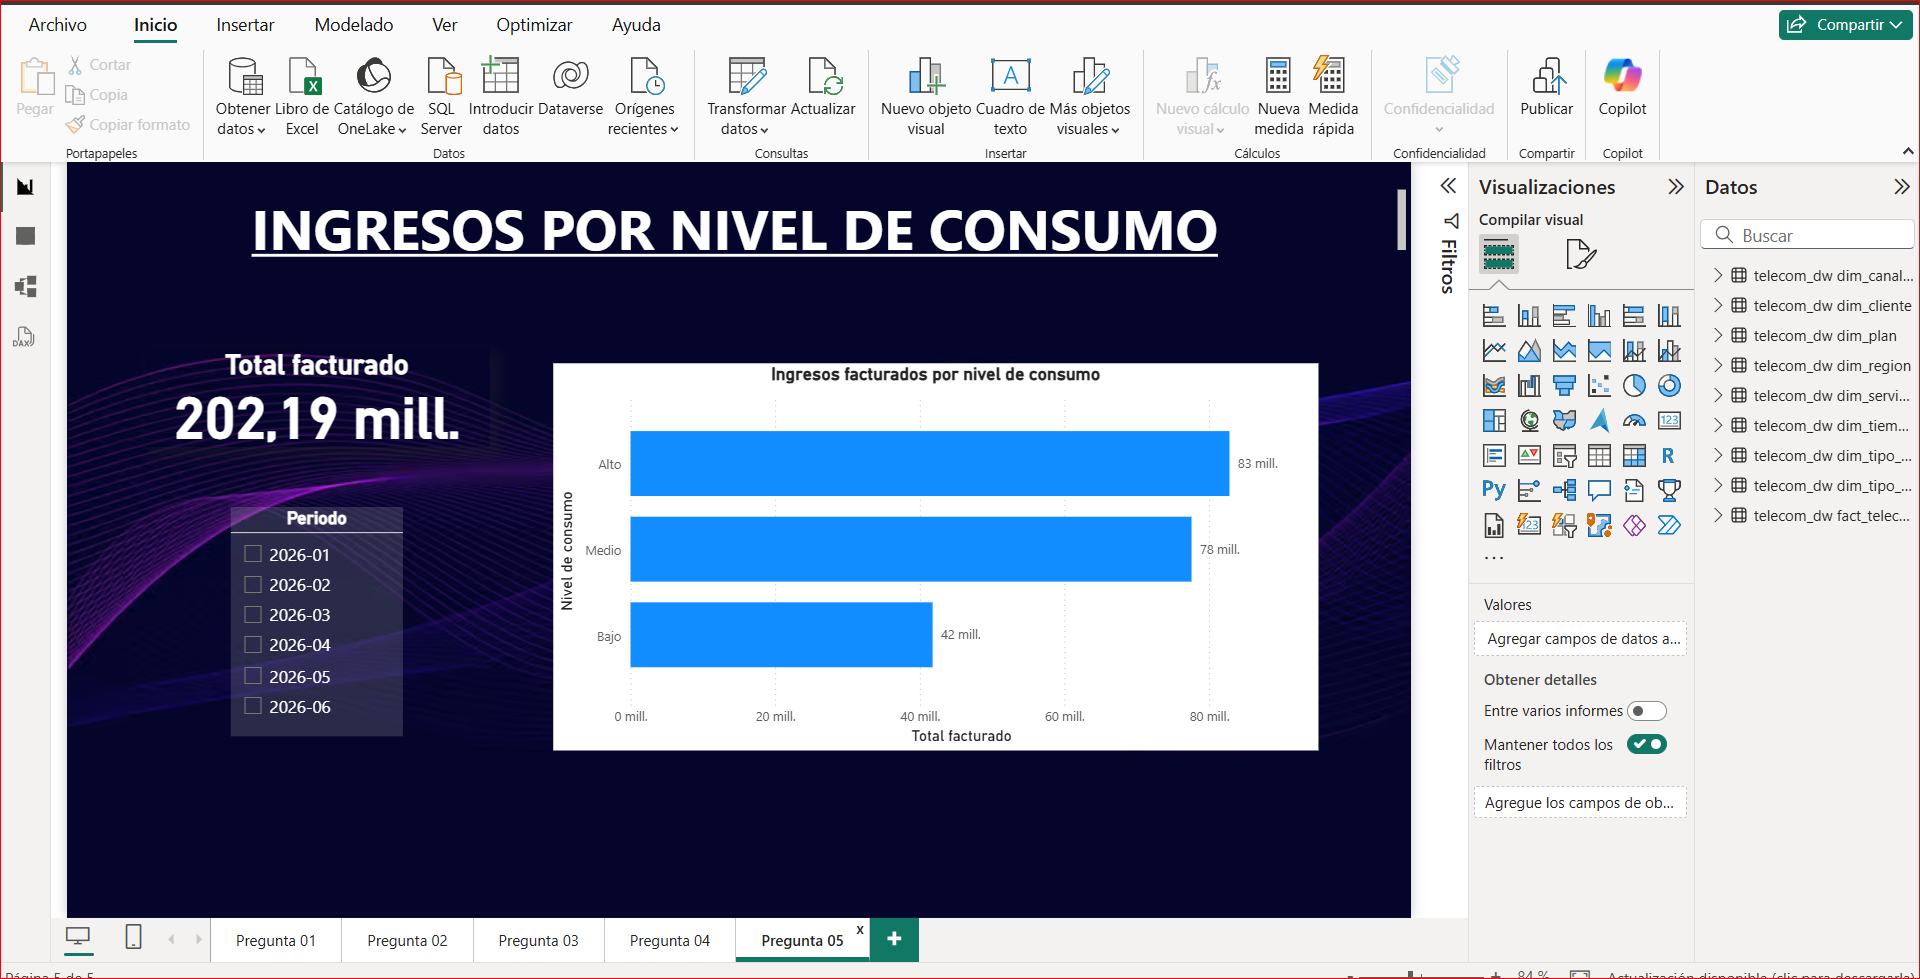

Layout of this report page (visuals, bound fields, positions):
{"tool":"powerbi","page":{"name":"Pregunta 05","canvas":[1280,720],"ordinal":4},"visuals":[{"type":"card","title":"Total facturado","fields":{"Values":["telecom_dw fact_telecomunicaciones.Total facturado"]},"box":[74.3,177.1,328.6,94.3],"z":0},{"type":"slicer","title":"Periodo","fields":{"Values":["telecom_dw dim_tiempo.anio_mes"]},"box":[155.7,328.6,164.3,218.6],"z":2000},{"type":"textbox","box":[0,21.2,1280,73.8],"z":4000},{"type":"clusteredBarChart","title":"Ingresos facturados por nivel de consumo","fields":{"Category":["telecom_dw dim_cliente.nivel_consumo"],"Y":["telecom_dw fact_telecomunicaciones.Total facturado"]},"box":[462.9,191.4,728.6,368.6],"z":7000}]}

Visuals, with their boxes on the page's 1280x720 design canvas (x1, y1, x2, y2). These are canvas units, not pixel positions in the 1920x979 screenshot, which may show the page scaled, cropped or inside an application window:
"Total facturado" card: 74:177:403:271
"Periodo" slicer: 156:329:320:547
textbox: 0:21:1280:95
"Ingresos facturados por nivel de consumo" clusteredBarChart: 463:191:1192:560
